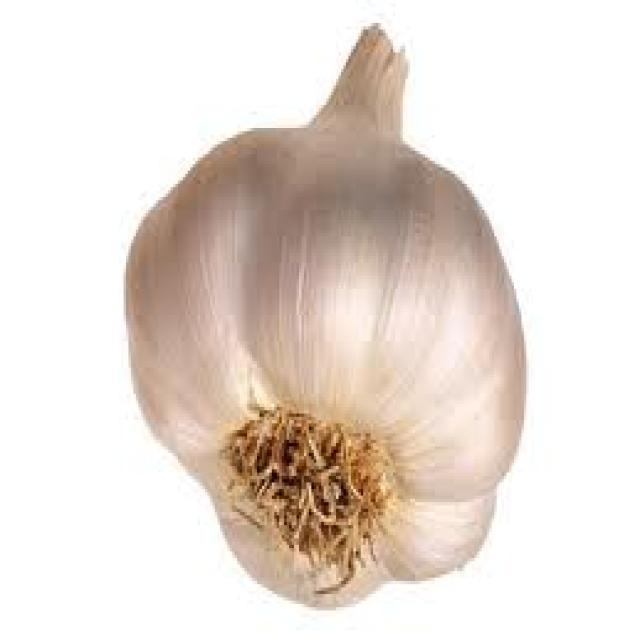Garlic: (99, 10, 551, 627)
